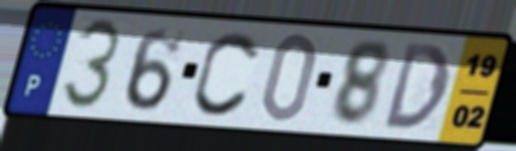0: (258, 31, 320, 125)
3: (58, 15, 124, 114)
6: (123, 24, 185, 113)
8: (328, 36, 393, 130)
C: (191, 28, 265, 120)
D: (381, 40, 453, 132)
